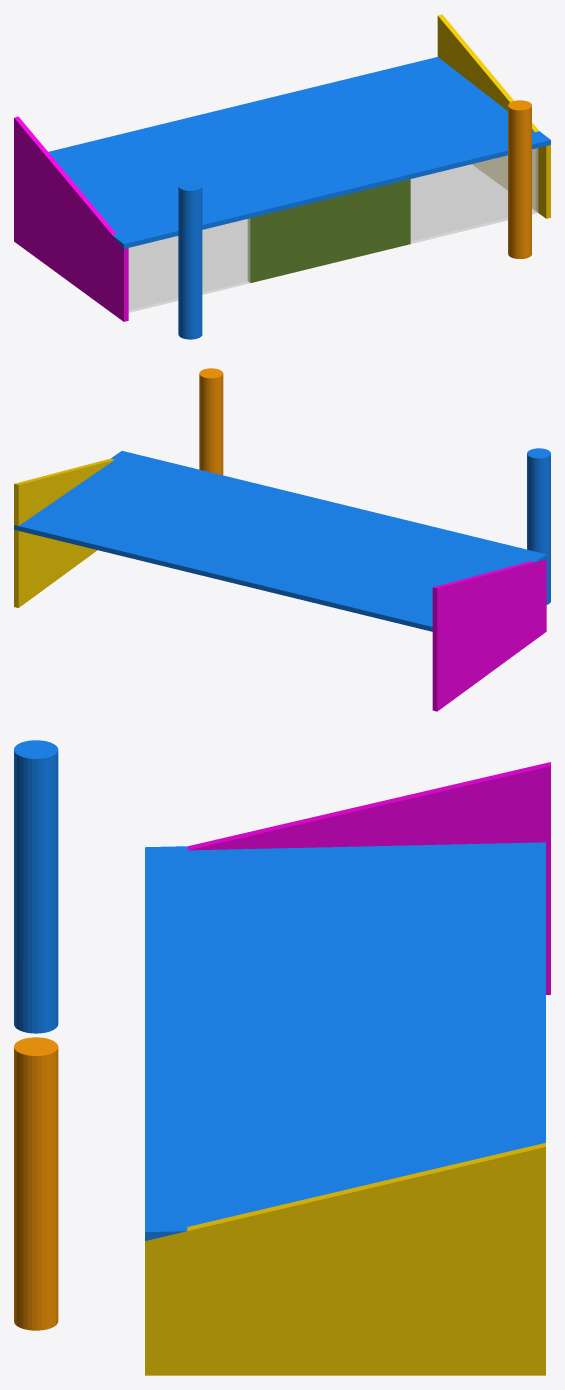
The model's file is Floor1_Front Gate.fbx.
The picture shows the model from 3 angles, top to bottom: view 1: azimuth 30°, elevation 25°; view 2: azimuth 150°, elevation 25°; view 3: azimuth 270°, elevation 25°; orthographic projection. The views are drawn at different scales.
Visible parts, largest first — view 1: blue Mesh (1) (×2), transparency Mesh (1), pink Mesh (1), Material #2142144597 Mesh (1), yellow Mesh (1), orange Mesh (1); view 2: blue Mesh (1) (×2), pink Mesh (1), yellow Mesh (1), orange Mesh (1); view 3: blue Mesh (1) (×2), yellow Mesh (1), pink Mesh (1), orange Mesh (1).
Part boxes in pixels (x1,y1,x2,y2): blue Mesh (1) (×2): [48, 57, 550, 339]; transparency Mesh (1): [128, 148, 538, 312]; pink Mesh (1): [14, 116, 128, 321]; Material #2142144597 Mesh (1): [247, 179, 410, 282]; yellow Mesh (1): [437, 14, 550, 218]; orange Mesh (1): [508, 100, 531, 258]; blue Mesh (1) (×2): [14, 448, 550, 631]; pink Mesh (1): [432, 559, 546, 711]; yellow Mesh (1): [14, 458, 114, 607]; orange Mesh (1): [199, 368, 223, 475]; blue Mesh (1) (×2): [14, 740, 545, 1240]; yellow Mesh (1): [145, 1143, 545, 1375]; pink Mesh (1): [188, 762, 550, 994]; orange Mesh (1): [14, 1037, 58, 1330].
Bounding box in the file's own units: 46 × 15.3 × 27.12.
